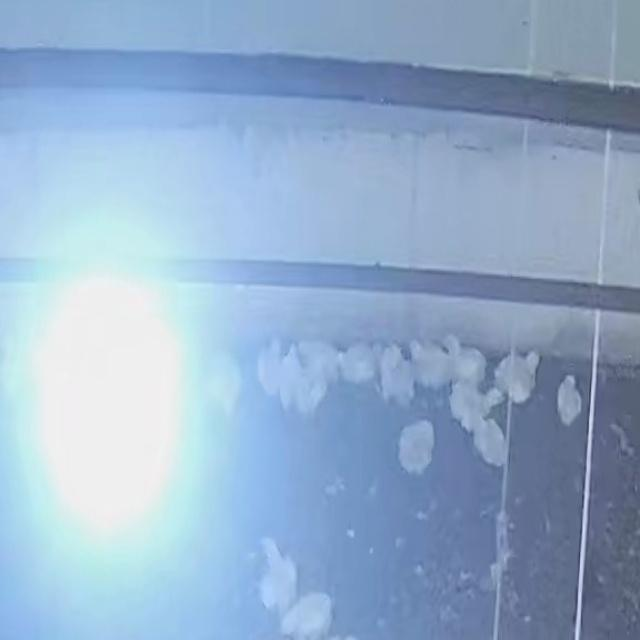chicken: (442, 334, 486, 389), (285, 592, 334, 638), (261, 536, 291, 611), (205, 354, 243, 412), (398, 421, 437, 477), (445, 389, 504, 424), (500, 350, 541, 399), (406, 339, 445, 390), (470, 418, 506, 473), (297, 338, 337, 385), (383, 346, 409, 411), (293, 360, 324, 414), (275, 343, 297, 414), (338, 347, 380, 384), (255, 341, 282, 393), (556, 379, 582, 425)
